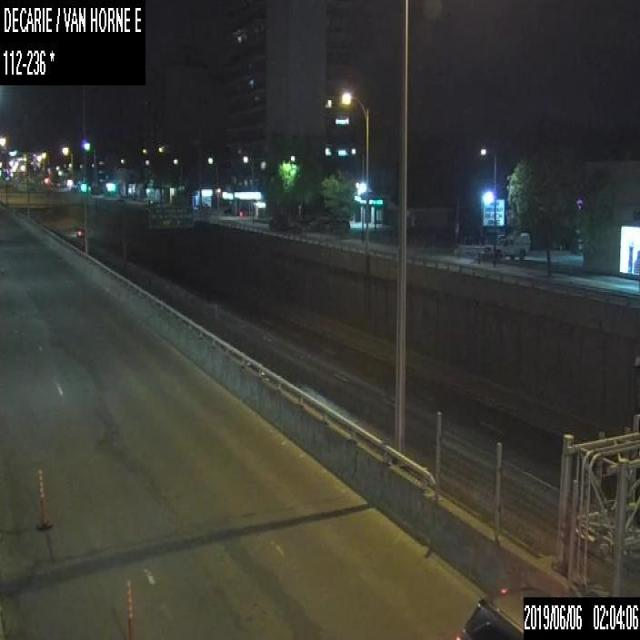construction: (34, 467, 51, 532), (122, 576, 136, 639)
vehicle: (450, 582, 553, 638), (486, 230, 529, 262), (76, 226, 84, 236)
